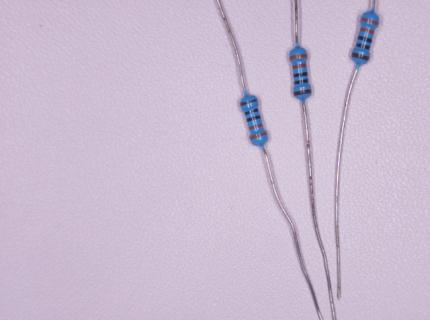Black band: (355, 42, 371, 51), (357, 35, 372, 44), (245, 108, 259, 116), (246, 115, 261, 122), (293, 71, 308, 78), (294, 79, 309, 85)
Brown band: (351, 52, 370, 62), (240, 98, 258, 107), (293, 89, 312, 97)
Orange band: (249, 131, 268, 141), (289, 53, 308, 61), (361, 18, 379, 26), (360, 27, 374, 35), (250, 123, 264, 130), (293, 63, 306, 70)
